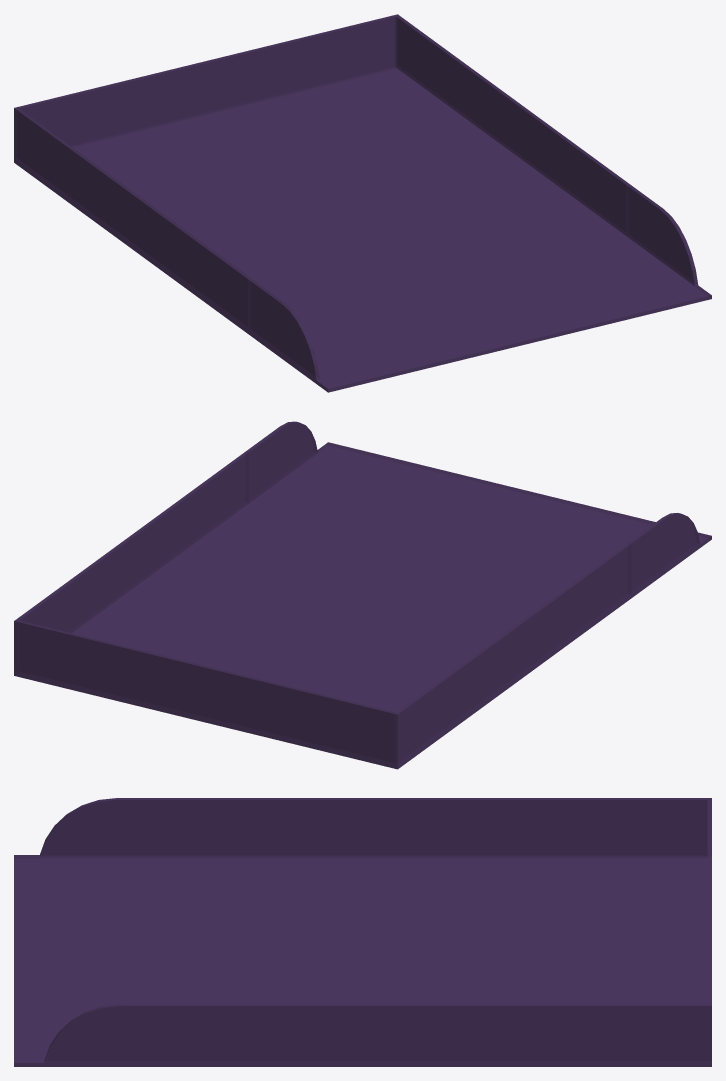
The model's file is paper_tray.fbx.
The picture shows the model from 3 angles, top to bottom: view 1: azimuth 30°, elevation 25°; view 2: azimuth 150°, elevation 25°; view 3: azimuth 270°, elevation 25°; orthographic projection. The views are drawn at different scales.
Parts seen in each view (by area): view 1: Model; view 2: Model; view 3: Model.
Boxes of the visible parts, x1,y1,x2,y2 form: Model: [14, 14, 711, 392]; Model: [14, 421, 711, 769]; Model: [14, 798, 711, 1066].
Size of the model in its own units: 22 by 3 by 31.2.
